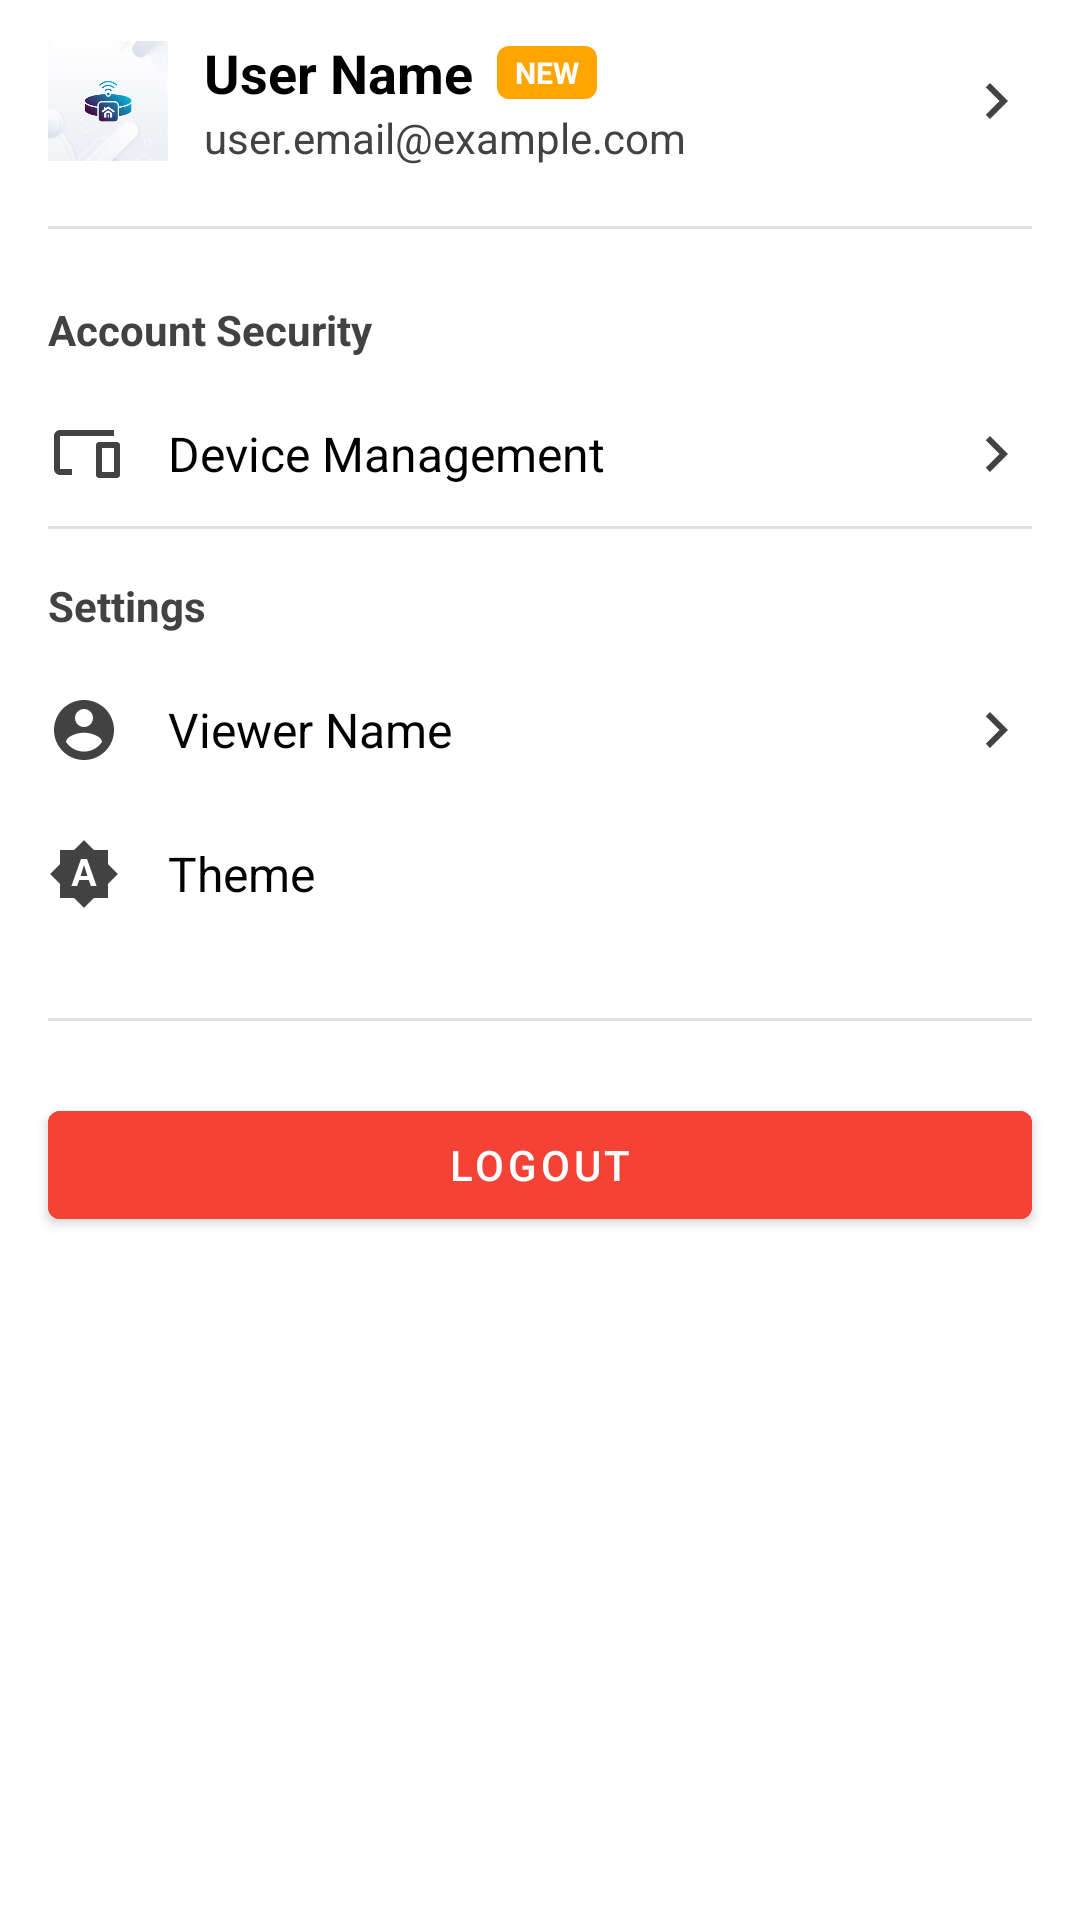

Icon bounding boxes for this 1080 x 1920 phone screenshot, format (x1, y1, x2, y2):
account circle: (54, 700, 114, 760)
brightness auto: (50, 840, 118, 908)
phonelink setup: (54, 430, 120, 478)
